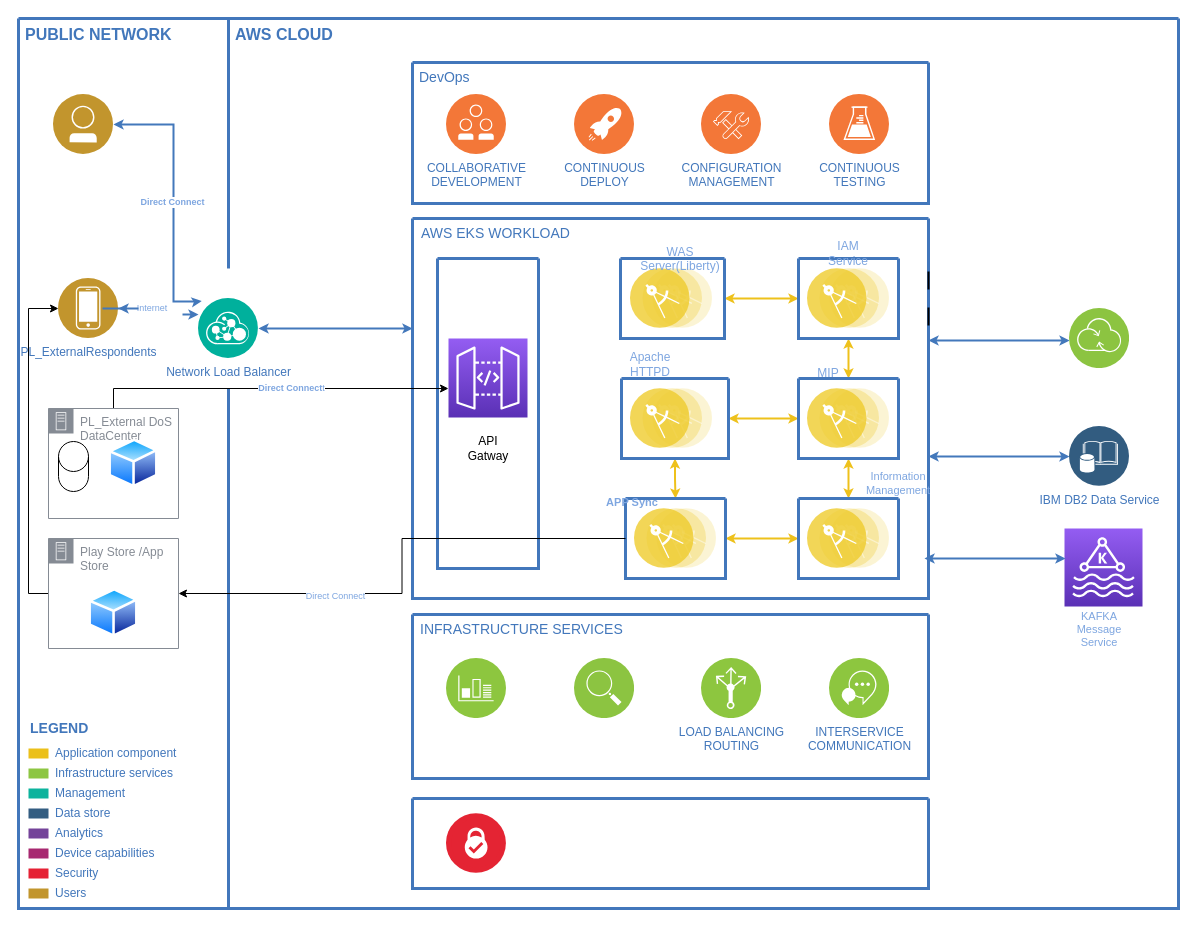
This 1197x927 diagram has some shape labels left out. The shapes that lost their labels are listed below. From the top down, each one's centre as x and y in pixels, then its label:
At pixel 83 124: "PL_ExternalDOSOffice".
At pixel 1099 338: "TRANSFORMATION & CONNECTIVITY".
At pixel 476 688: "MONITORING & LOGGING".
At pixel 604 688: "SERVICE REGISTRATION / DISCOVERY".
At pixel 476 843: "CLOUD SECURITY".
